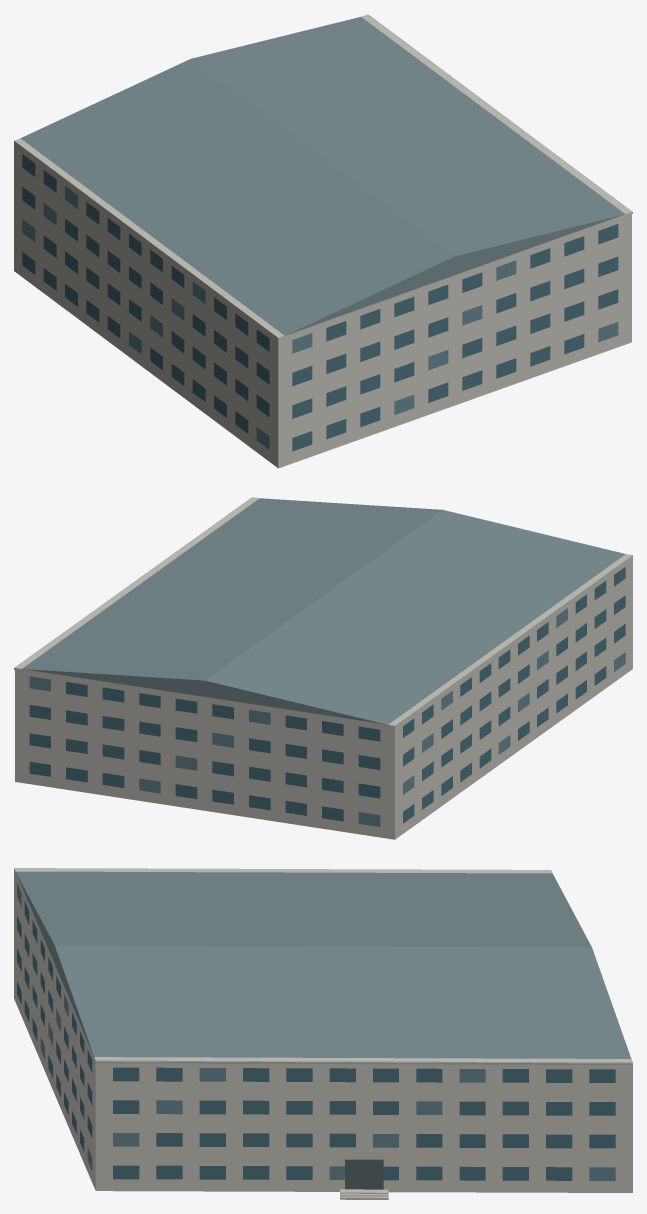
Rendered from 核心区东侧-011.glb.
3 renders of one model, top to bottom at view 1: azimuth 30°, elevation 25°; view 2: azimuth 150°, elevation 25°; view 3: azimuth 270°, elevation 25°, orthographic. The views are drawn at different scales.
Visible parts, largest first — view 1: 核心区东侧-011; view 2: 核心区东侧-011; view 3: 核心区东侧-011.
Boxes of the visible parts, bbox=[...] form: 核心区东侧-011: bbox=[14, 14, 632, 468]; 核心区东侧-011: bbox=[14, 497, 632, 839]; 核心区东侧-011: bbox=[14, 868, 632, 1199].
Size of the model in its own units: 48.99 by 16.92 by 63.61.
